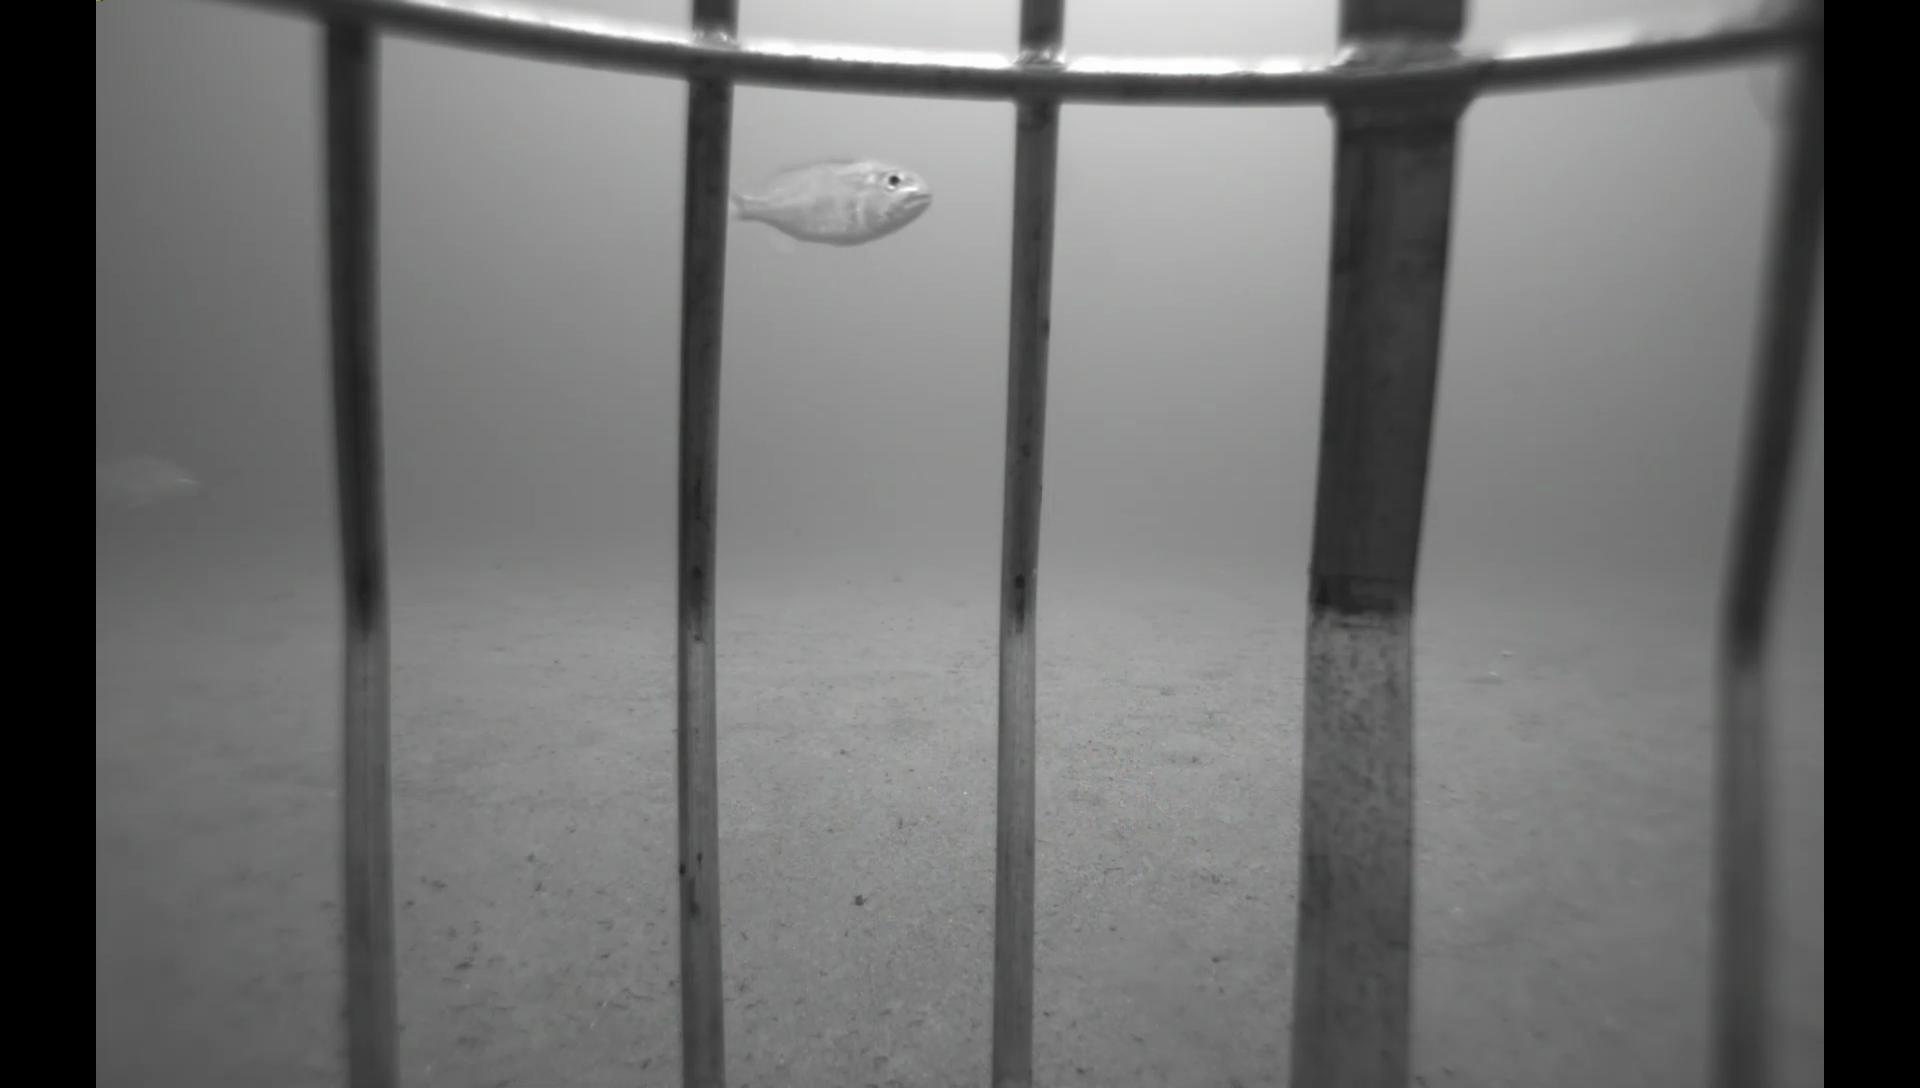PRISTIPOMOIDES-170151800: (723, 146, 947, 268), (95, 450, 207, 512)
